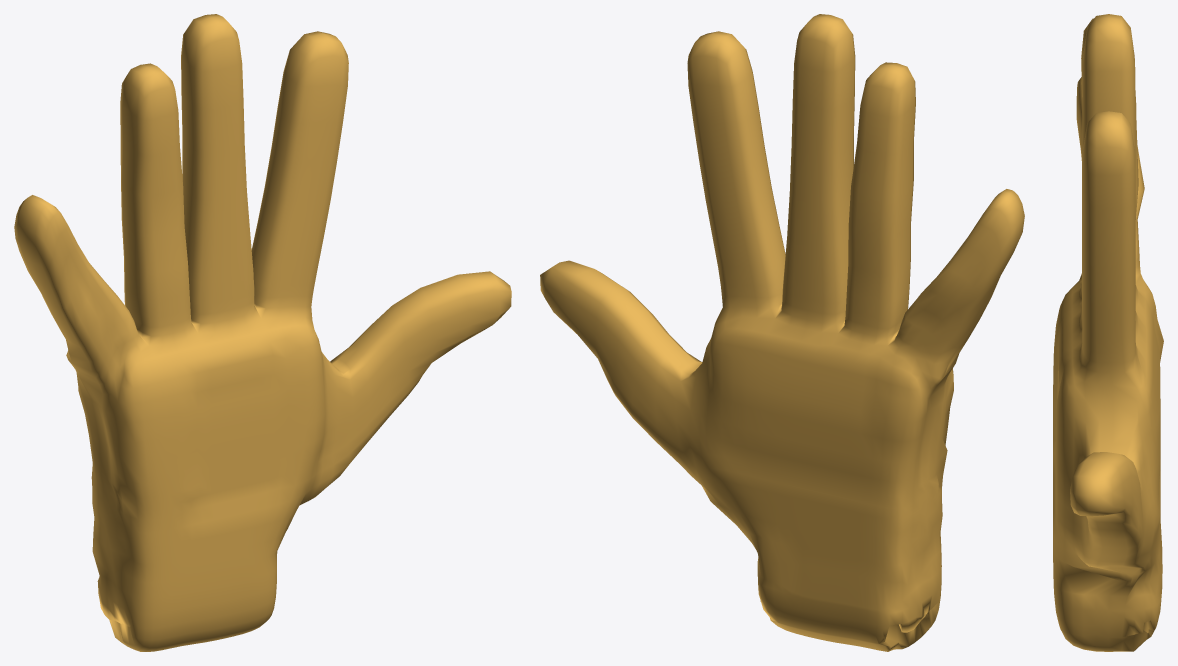
File: hand1.glb
3 views of the same model, side by side, from view 1: azimuth 30°, elevation 25°; view 2: azimuth 150°, elevation 25°; view 3: azimuth 270°, elevation 25° (orthographic).
Visible parts, largest first — view 1: Cube; view 2: Cube; view 3: Cube.
Part boxes in pixels (x1=…): Cube: x1=14, y1=14, x2=511, y2=651; Cube: x1=540, y1=14, x2=1024, y2=651; Cube: x1=1053, y1=14, x2=1163, y2=651.
Bounding box in the file's own units: 7.97 × 9.69 × 1.57.
